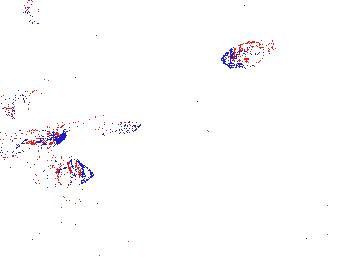X-ray fish: (22, 150, 95, 188), (219, 38, 282, 68), (20, 1, 44, 28)
red belly glassfish: (55, 191, 108, 213)
redtail glassfish: (41, 112, 143, 145), (1, 125, 65, 158)
